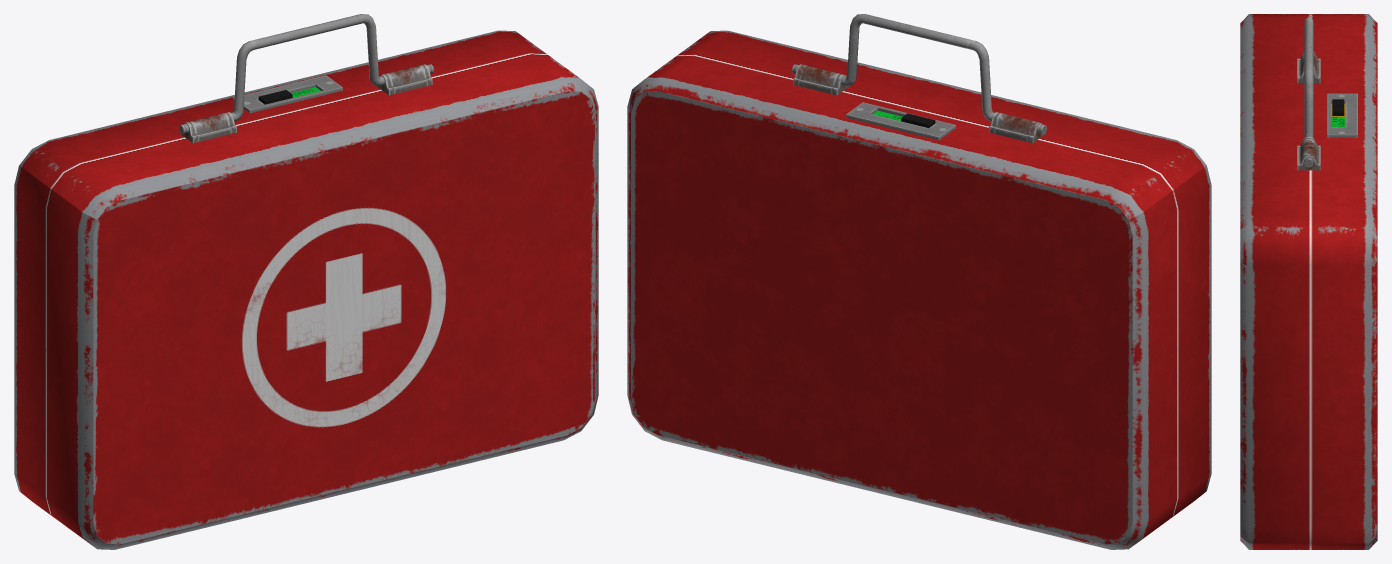
File: medikit.dae
The picture shows the model from 3 angles, left to right: view 1: azimuth 30°, elevation 25°; view 2: azimuth 150°, elevation 25°; view 3: azimuth 270°, elevation 25°; orthographic projection. The views are drawn at different scales.
Parts seen in each view (by area): view 1: Medikit_LP; view 2: Medikit_LP; view 3: Medikit_LP.
Part boxes in pixels (x1,y1,x2,y2): Medikit_LP: (14, 14, 598, 549); Medikit_LP: (627, 14, 1211, 549); Medikit_LP: (1240, 14, 1377, 549).
Size of the model in its own units: 0.02 by 0.00504 by 0.0169.
Materials: 1 (1 with a texture image).
